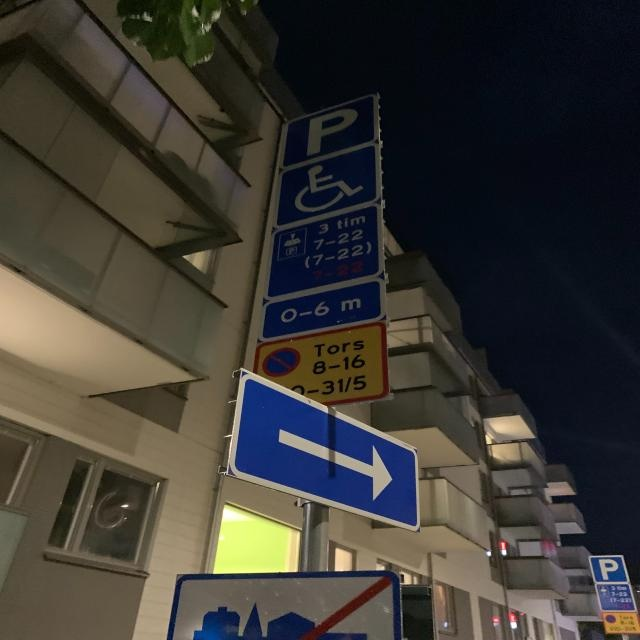lastplats: (280, 94, 380, 167), (588, 555, 628, 584)
